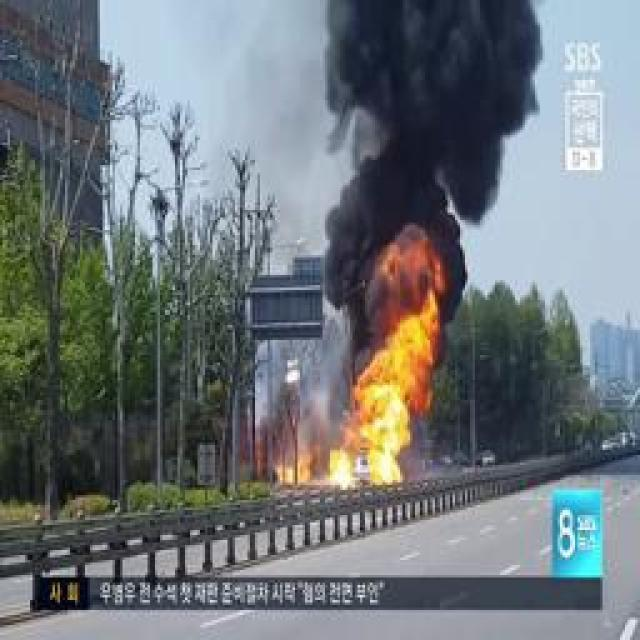Fire: (352, 372, 401, 486), (392, 302, 437, 379), (330, 440, 349, 490), (402, 382, 427, 418), (276, 460, 312, 484)
